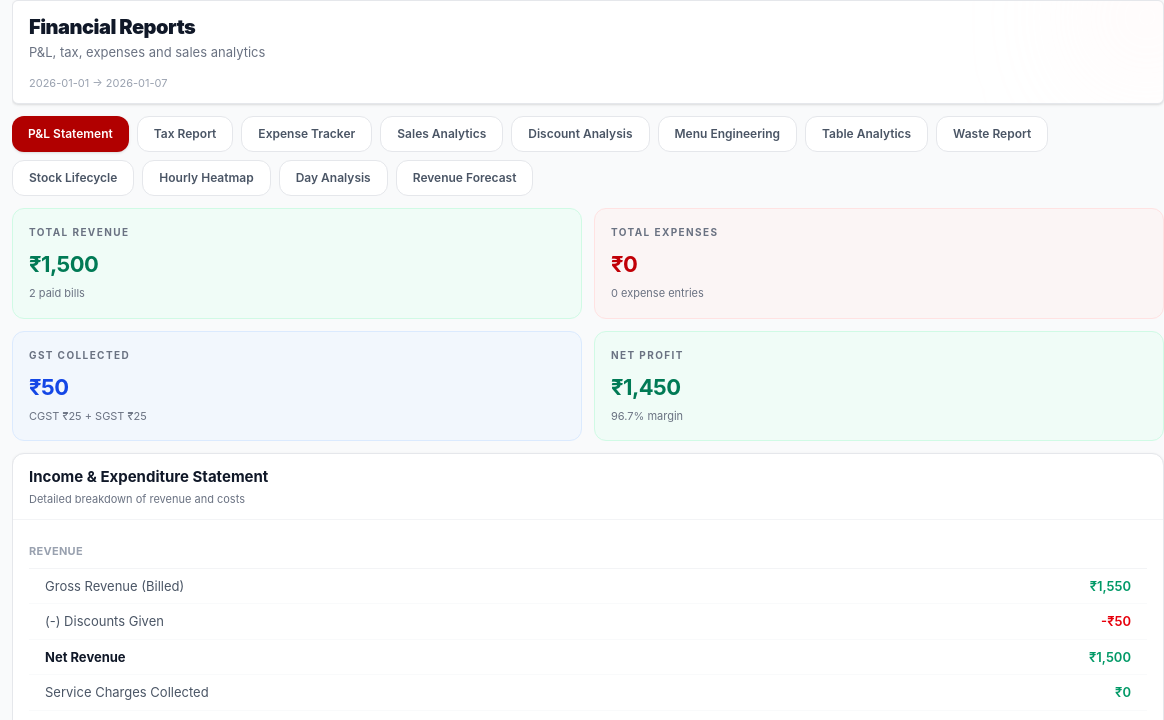
Test: Reports page — characterisation › renders the Discount Analysis tab's own content
The image size is (1164, 720).
Step 1. Click the button "Discount Analysis" → [580, 134], box [511,116,650,152]
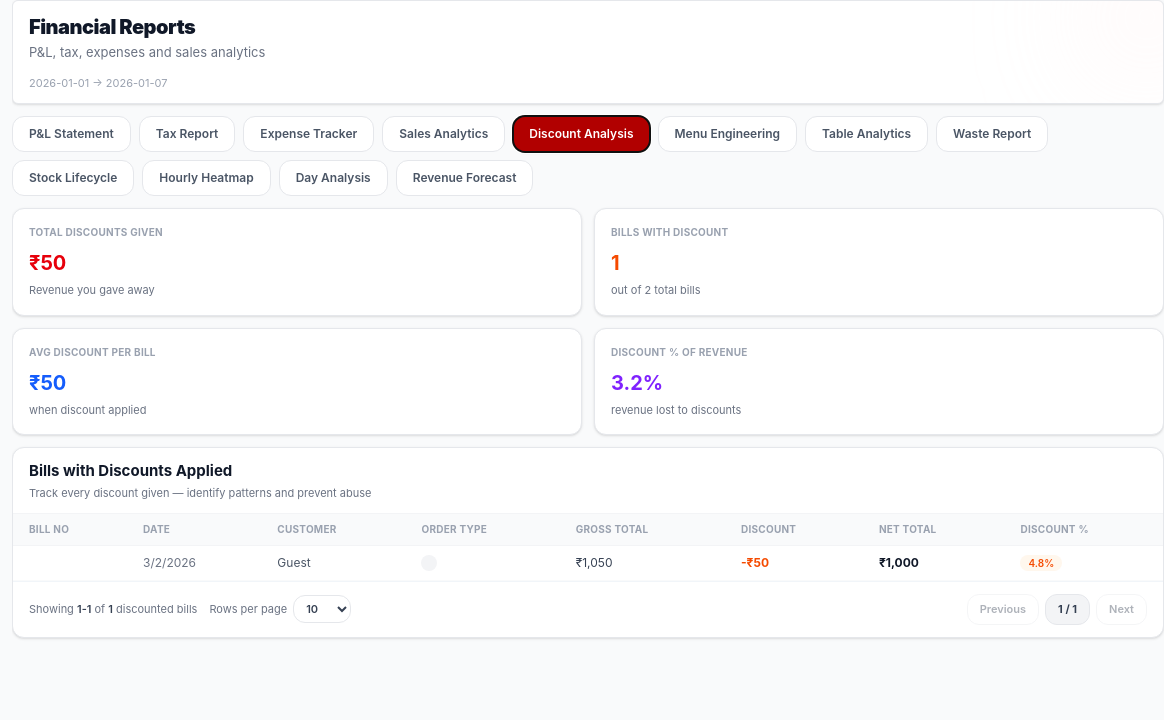
Check: the text "Avg Discount per Bill" is shown, box [29,346,156,358]
